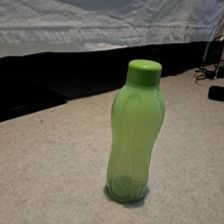bottle: (98, 58, 168, 201)
